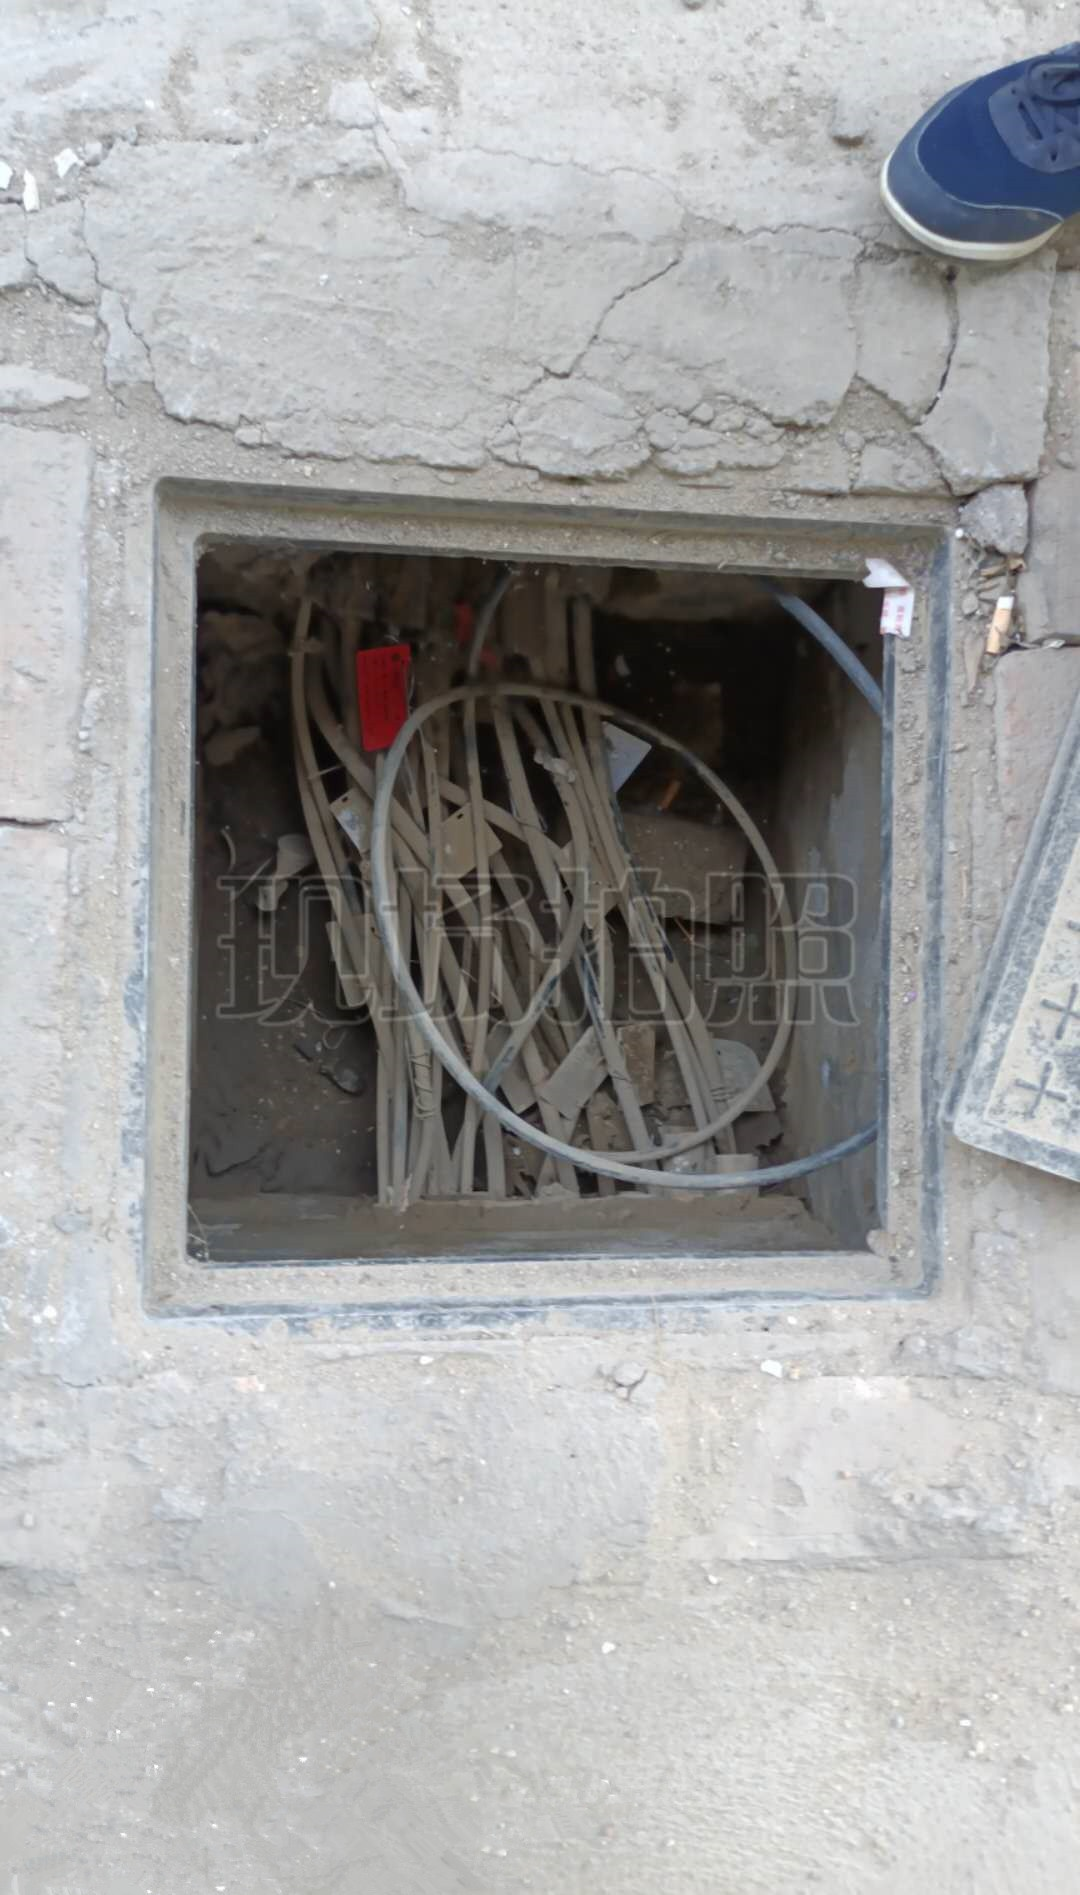lose: (113, 458, 967, 1350)
